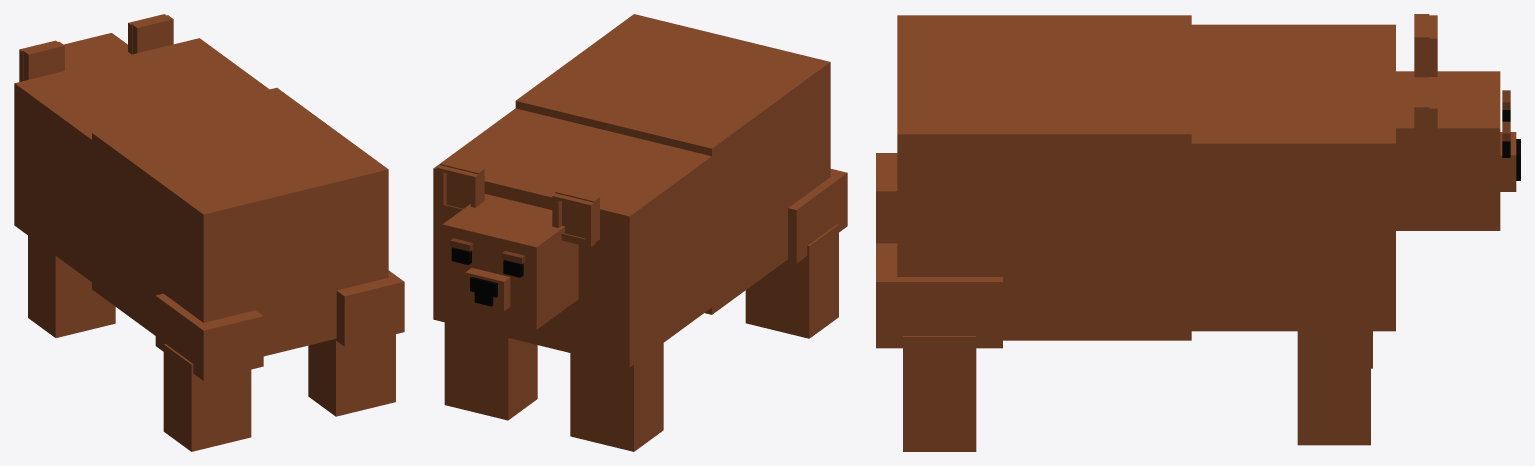
File: Urso.fbx
3 views of the same model, side by side, from view 1: azimuth 30°, elevation 25°; view 2: azimuth 150°, elevation 25°; view 3: azimuth 270°, elevation 25° (orthographic). The views are drawn at different scales.
Parts seen in each view (by area): view 1: Cube, Cube.005, Cube.004, Cube.001, Cube.003, Cube.007, Cube.002, Cube.008, Cube.009, Cube.012; view 2: Cube, Cube.005, Cube.008, Cube.007, Cube.006, Cube.004, Cube.001, Cube.012, Cube.009, Cube.010, Cube.011, Cube.013 (+1 smaller); view 3: Cube, Cube.005, Cube.008, Cube.002, Cube.003, Cube.006, Cube.001, Cube.009, Cube.012, Cube.013, Cube.011.
Part boxes in pixels (left/top/right/bottom): Cube: left=92, top=87, right=388, bottom=356; Cube.005: left=14, top=38, right=269, bottom=282; Cube.004: left=163, top=344, right=251, bottom=451; Cube.001: left=155, top=293, right=263, bottom=380; Cube.003: left=308, top=334, right=395, bottom=416; Cube.007: left=28, top=236, right=115, bottom=337; Cube.002: left=334, top=270, right=404, bottom=346; Cube.008: left=63, top=33, right=131, bottom=70; Cube.009: left=131, top=15, right=173, bottom=54; Cube.012: left=23, top=41, right=64, bottom=80; Cube: left=515, top=14, right=830, bottom=314; Cube.005: left=433, top=108, right=713, bottom=367; Cube.008: left=442, top=194, right=578, bottom=329; Cube.007: left=570, top=343, right=663, bottom=451; Cube.006: left=444, top=322, right=537, bottom=420; Cube.004: left=745, top=224, right=838, bottom=338; Cube.001: left=786, top=169, right=847, bottom=263; Cube.012: left=555, top=187, right=599, bottom=242; Cube.009: left=440, top=159, right=484, bottom=208; Cube.010: left=552, top=193, right=595, bottom=247; Cube.011: left=436, top=165, right=479, bottom=214; Cube.013: left=465, top=268, right=510, bottom=311; Cube: left=897, top=15, right=1191, bottom=340; Cube.005: left=1189, top=24, right=1395, bottom=331; Cube.008: left=1396, top=71, right=1500, bottom=230; Cube.002: left=876, top=243, right=1002, bottom=348; Cube.003: left=903, top=336, right=976, bottom=451; Cube.006: left=1297, top=331, right=1370, bottom=445; Cube.001: left=876, top=153, right=897, bottom=243; Cube.009: left=1414, top=84, right=1429, bottom=159; Cube.012: left=1414, top=14, right=1429, bottom=77; Cube.013: left=1500, top=132, right=1516, bottom=191; Cube.011: left=1426, top=85, right=1437, bottom=161.
Bounding box in the file's own units: 267 × 309 × 554.
